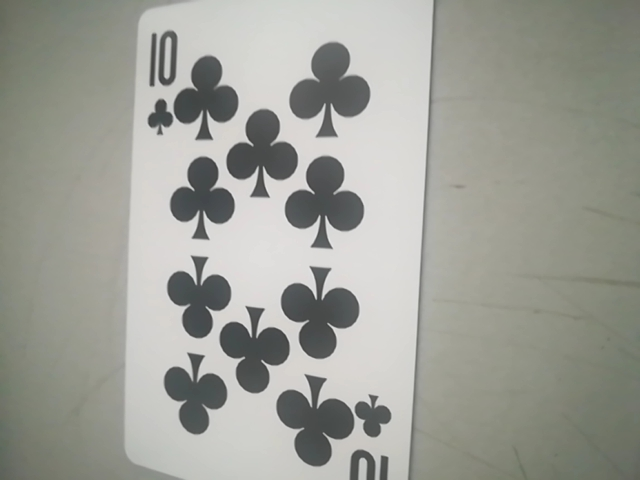mh 10: (128, 0, 435, 480)
